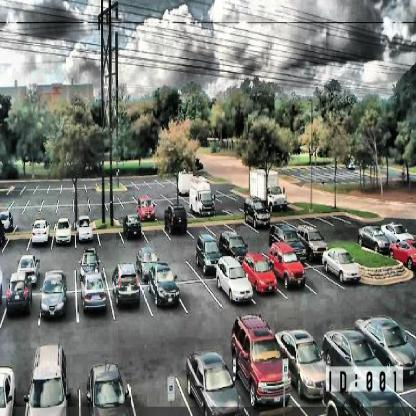free: (134, 371, 184, 415), (189, 283, 213, 318), (173, 253, 196, 279), (308, 263, 327, 294), (51, 256, 72, 277), (9, 226, 28, 249), (100, 224, 119, 246), (147, 221, 164, 244), (210, 214, 226, 233), (233, 216, 248, 235), (191, 218, 205, 235), (104, 254, 118, 271)
occupied: (29, 343, 72, 415), (243, 327, 283, 401), (190, 359, 240, 416), (376, 321, 414, 382), (88, 360, 130, 415), (292, 332, 324, 398), (328, 329, 368, 381), (151, 263, 180, 308), (40, 271, 66, 319), (330, 247, 361, 285), (222, 257, 250, 299), (277, 244, 302, 288), (0, 360, 18, 415), (7, 278, 33, 316), (114, 264, 138, 305), (84, 280, 108, 317), (249, 255, 272, 290), (246, 192, 267, 228), (274, 220, 298, 249), (222, 226, 244, 257), (198, 234, 216, 271), (166, 204, 186, 236), (305, 220, 324, 253), (79, 250, 98, 282), (53, 214, 71, 246), (75, 216, 94, 245), (124, 212, 141, 241), (20, 252, 36, 280), (32, 219, 49, 245)
